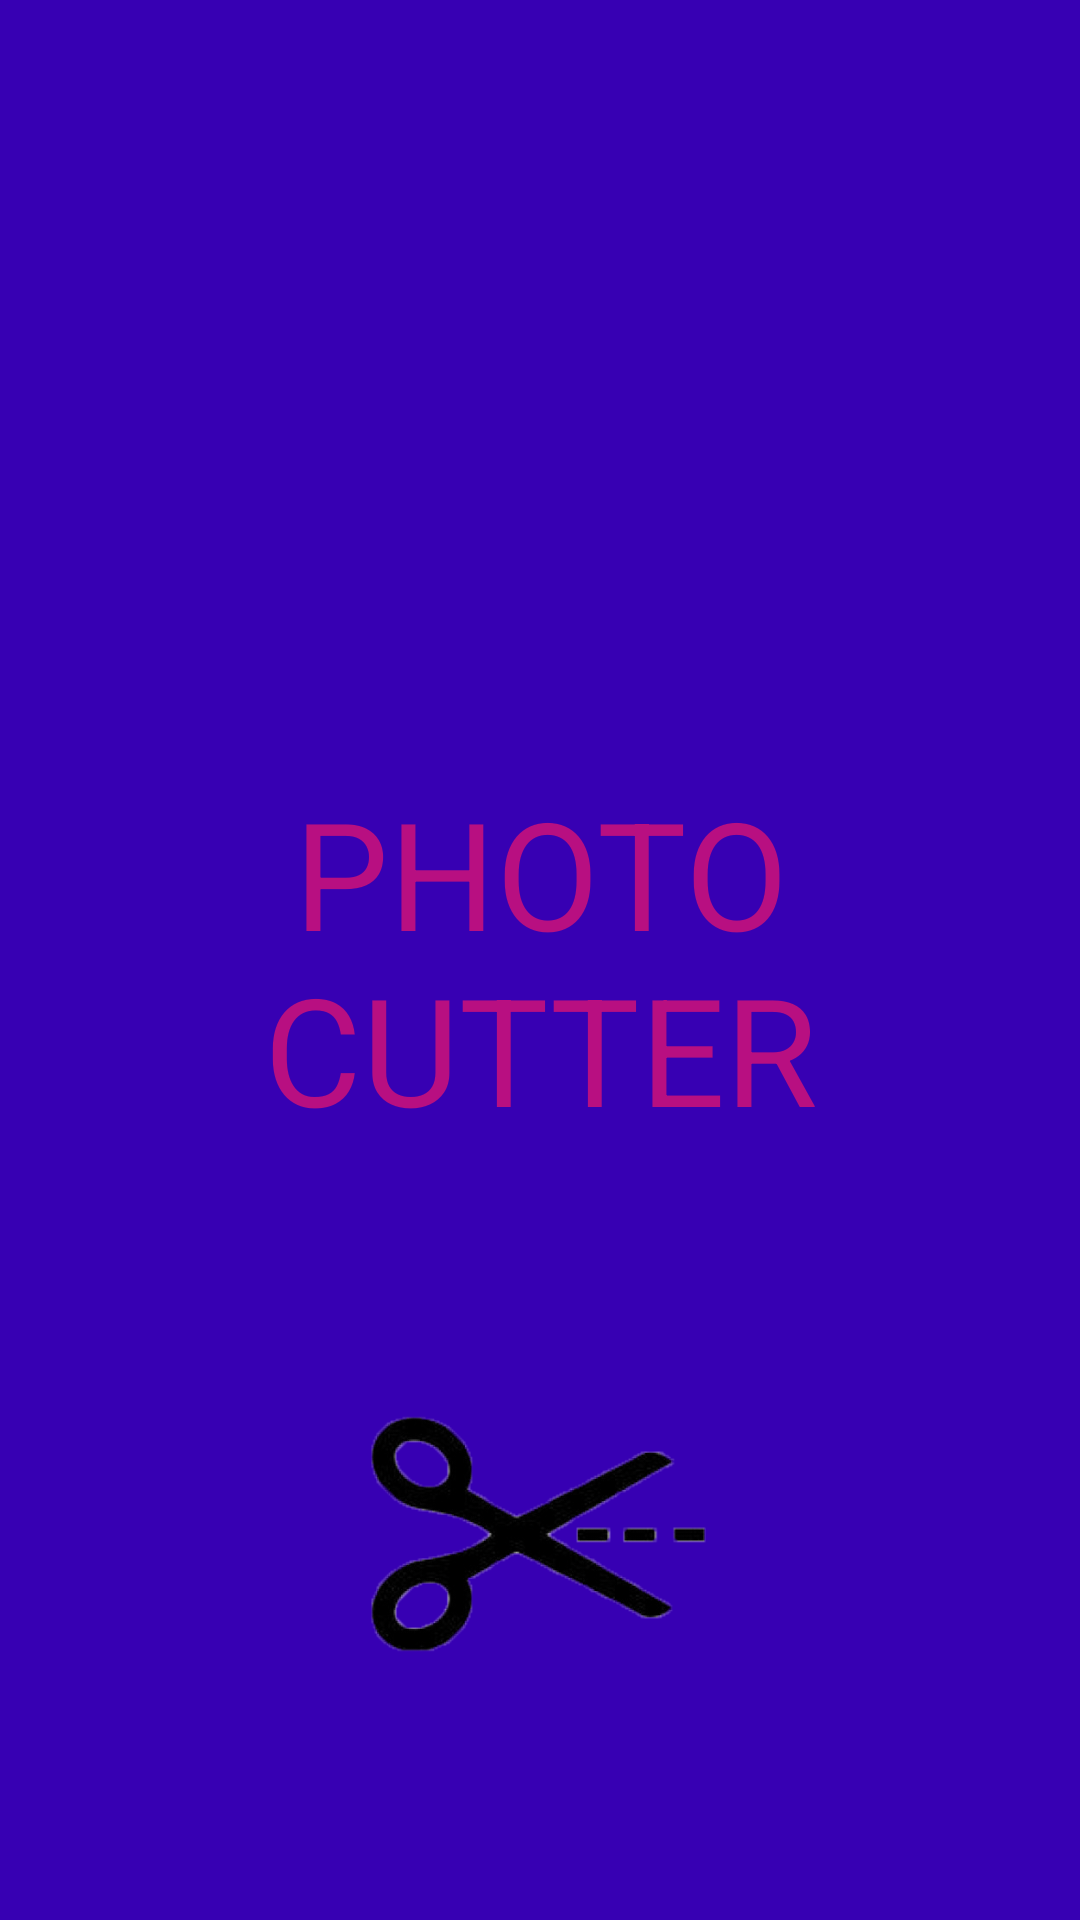

Icons on this 1080*1920 Android screen, each with its box as (x1, y1, x2, y2):
klipart: (371, 1417, 706, 1651)
